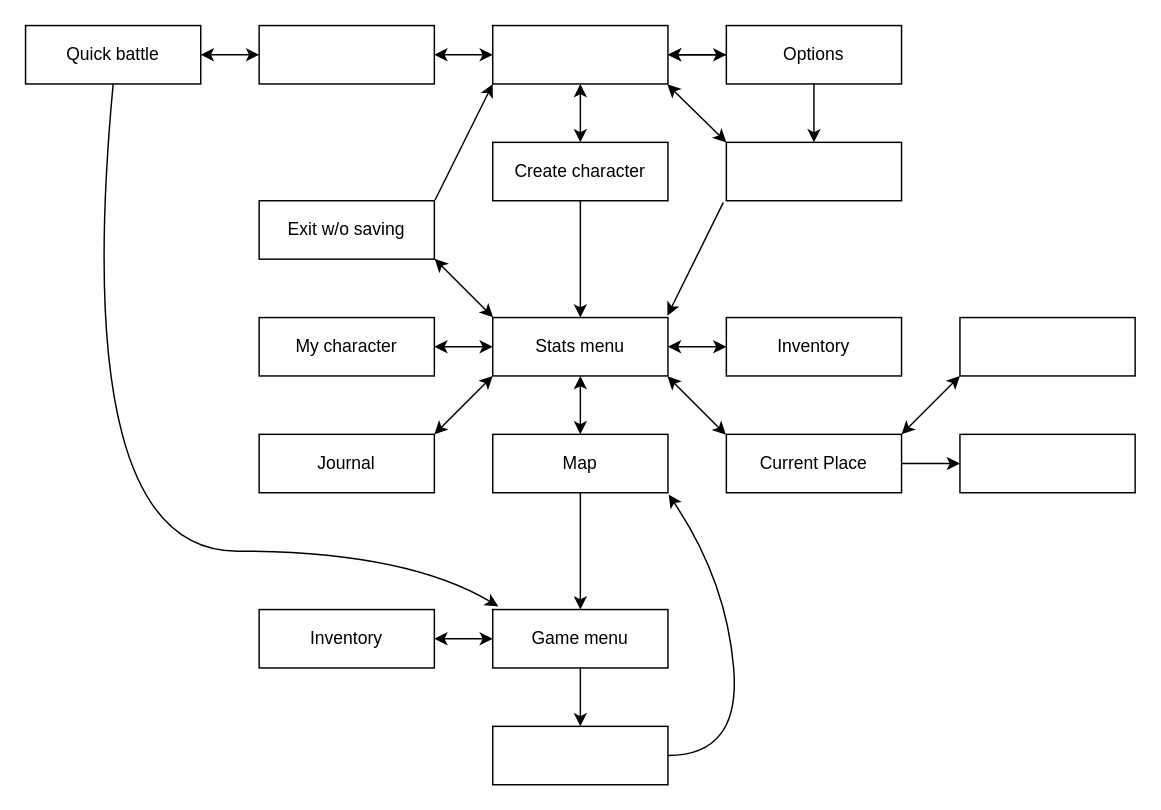
Image size: 1161x810. Some labels were removed from this diagram. Here are the shapes that lost their labels. From the top down, the box of each, then its label:
(258, 24, 434, 84): Extras
(491, 24, 668, 84): Main menu
(725, 141, 902, 201): Load game
(958, 316, 1135, 376): Available jobs
(958, 433, 1135, 493): Market
(491, 725, 668, 785): Win or lose
